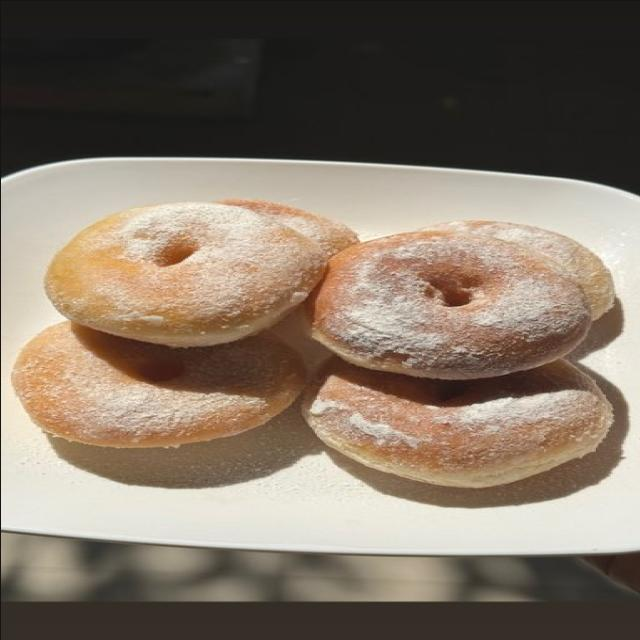donat: (302, 220, 618, 388), (42, 200, 359, 351), (304, 358, 617, 494), (10, 321, 312, 451)
